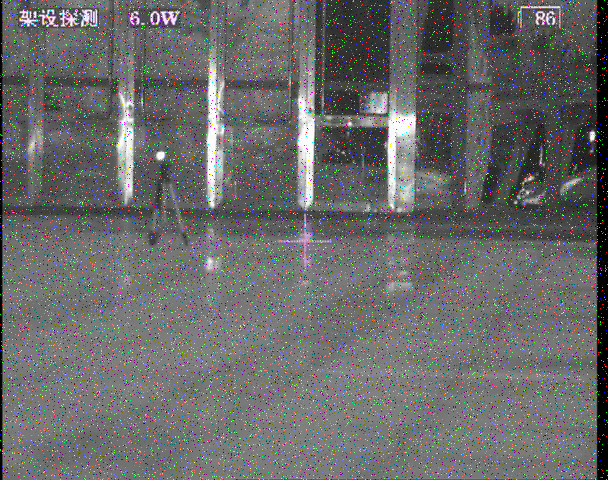my: (155, 150, 165, 162)
